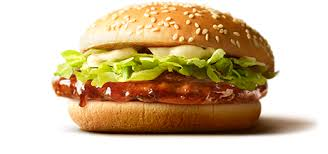hamburger: (56, 2, 279, 136)
